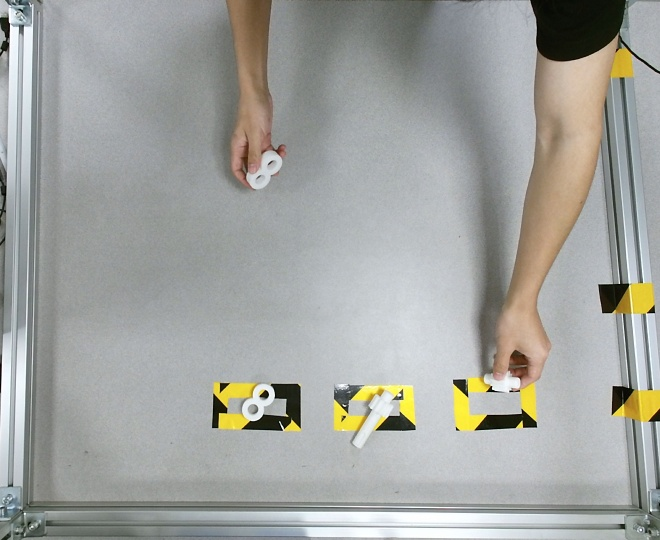stage_1: (246, 149, 282, 189)
